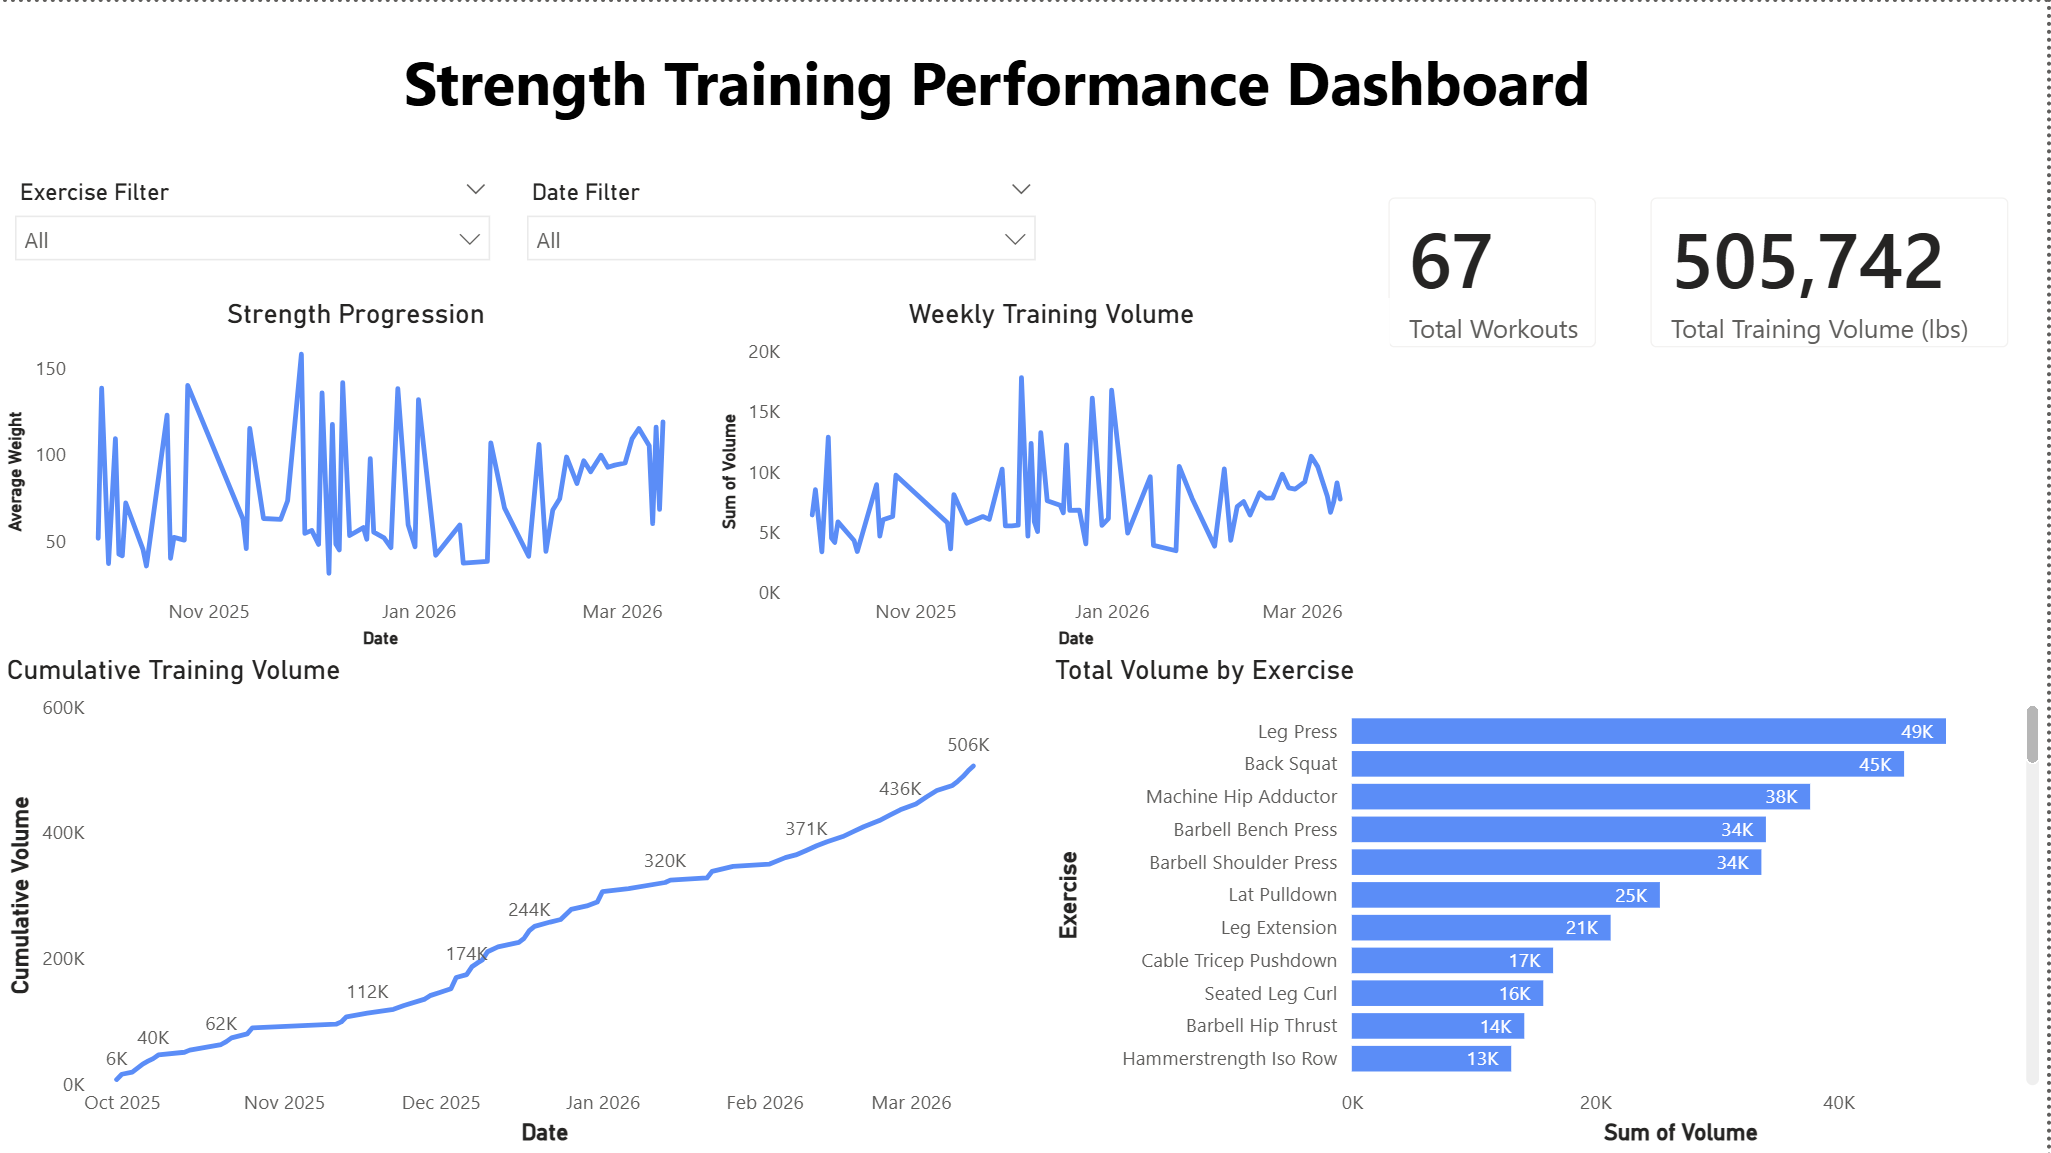

The dashboard page shown, as its layout file describes it:
{"tool":"powerbi","page":{"name":"Page 1","canvas":[1280,720],"ordinal":0},"visuals":[{"type":"cardVisual","fields":{"Data":["workout_strength_cleaned.Total Workouts"]},"box":[851,105,164,128],"z":0},{"type":"cardVisual","title":"Total Volume ","fields":{"Data":["workout_strength_cleaned.Total Volume"]},"box":[1015,105,258,128],"z":1000},{"type":"lineChart","title":"Strength Progression","fields":{"Y":["Avg(workout_strength_cleaned.weight_lb)"],"Category":["workout_strength_cleaned.date.Variation.Date Hierarchy.Year","workout_strength_cleaned.date.Variation.Date Hierarchy.Quarter","workout_strength_cleaned.date.Variation.Date Hierarchy.Month","workout_strength_cleaned.date.Variation.Date Hierarchy.Day"]},"box":[0,185,446,223],"z":2000},{"type":"slicer","fields":{"Values":["workout_strength_cleaned.exercise"]},"box":[0,105,317,73],"z":3000},{"type":"slicer","fields":{"Values":["workout_strength_cleaned.date.Variation.Date Hierarchy.Year","workout_strength_cleaned.date.Variation.Date Hierarchy.Quarter","workout_strength_cleaned.date.Variation.Date Hierarchy.Month"]},"box":[320,105,338,73],"z":4000},{"type":"lineChart","title":"Weekly Training Volume","fields":{"Y":["Sum(workout_strength_cleaned.volume)"],"Category":["workout_strength_cleaned.date"]},"box":[446,185,423,223],"z":5000},{"type":"lineChart","title":"Cumulative Training Volume","fields":{"Category":["workout_strength_cleaned.date"],"Y":["workout_strength_cleaned.Cumulative Volume"]},"box":[0,408,640,312],"z":6000},{"type":"barChart","title":"Total Volume by Exercise","fields":{"Category":["workout_strength_cleaned.exercise"],"Y":["Sum(workout_strength_cleaned.volume)"]},"box":[655,408,625,312],"z":7000},{"type":"textbox","box":[94,19,1060,79],"z":8000}]}

Visuals, with their boxes in screenshot pixels (x1, y1, x2, y2), scaled from the page's 1280x720 canvas onto the 2051x1153 screenshot:
cardVisual - workout_strength_cleaned.Total Workouts: bbox=[1364, 168, 1626, 373]
"Total Volume " cardVisual: bbox=[1626, 168, 2040, 373]
"Strength Progression" lineChart: bbox=[0, 296, 715, 653]
slicer - workout_strength_cleaned.exercise: bbox=[0, 168, 508, 285]
slicer - workout_strength_cleaned.date.Variation.Date Hierarchy.Year x workout_strength_cleaned.date.Variation.Date Hierarchy.Quarter: bbox=[513, 168, 1054, 285]
"Weekly Training Volume" lineChart: bbox=[715, 296, 1392, 653]
"Cumulative Training Volume" lineChart: bbox=[0, 653, 1026, 1152]
"Total Volume by Exercise" barChart: bbox=[1050, 653, 2050, 1152]
textbox: bbox=[151, 30, 1849, 157]
